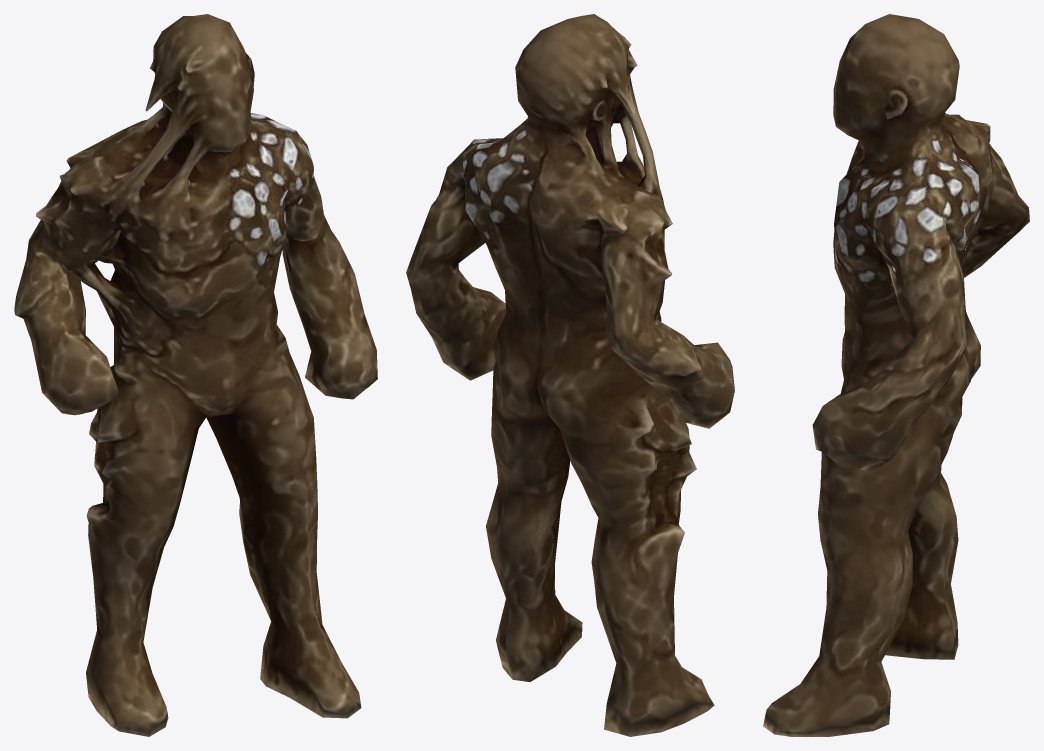
The model's file is 117-prometheanoffspring.glb.
The picture shows the model from 3 angles, left to right: view 1: azimuth 30°, elevation 25°; view 2: azimuth 150°, elevation 25°; view 3: azimuth 270°, elevation 25°; orthographic projection.
Size of the model in its own units: 1.08 by 2.24 by 0.8074.
Materials: 1 (1 with a texture image).
